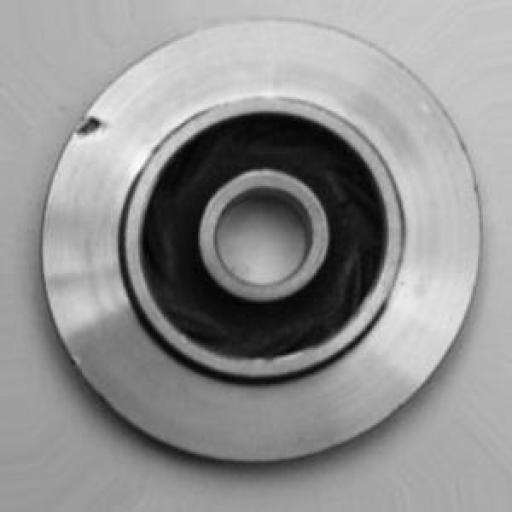defect: (58, 86, 118, 160)
